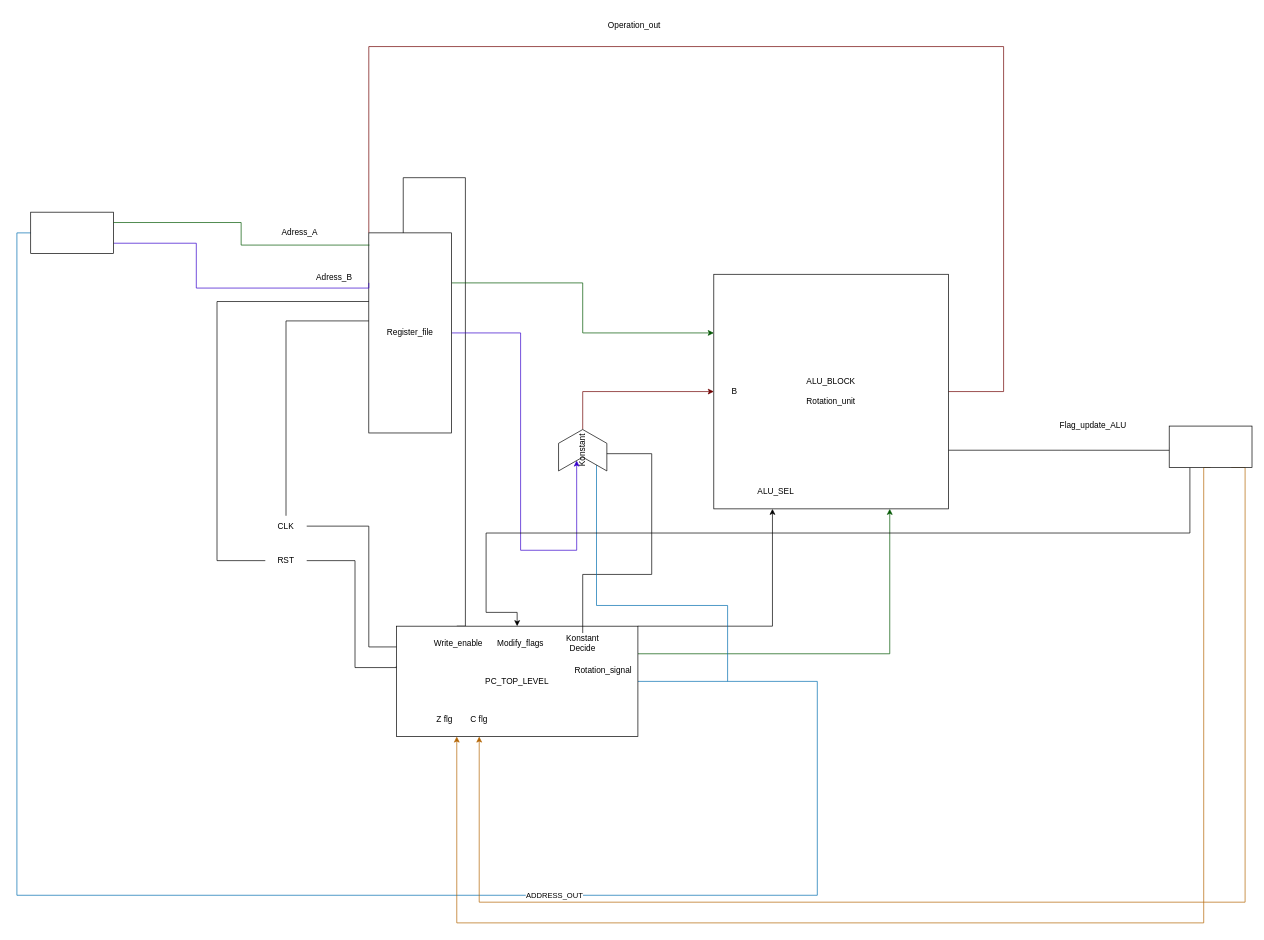
Image size: 1264x940. Some labels were removed from this diagram. Here are the shapes that lost their labels. From the top down, the centre of each, then its label:
At point 72,232: "Address_decoder".
At point 1210,446: "Flag_Register".
